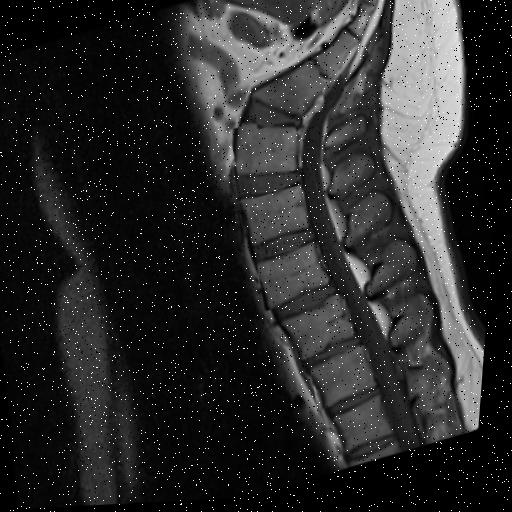L1: (316, 348, 380, 410)
L2: (286, 297, 359, 363)
L3: (260, 246, 332, 310)
L4: (244, 187, 311, 247)
L5: (237, 124, 300, 174)
S1: (252, 63, 323, 119)
